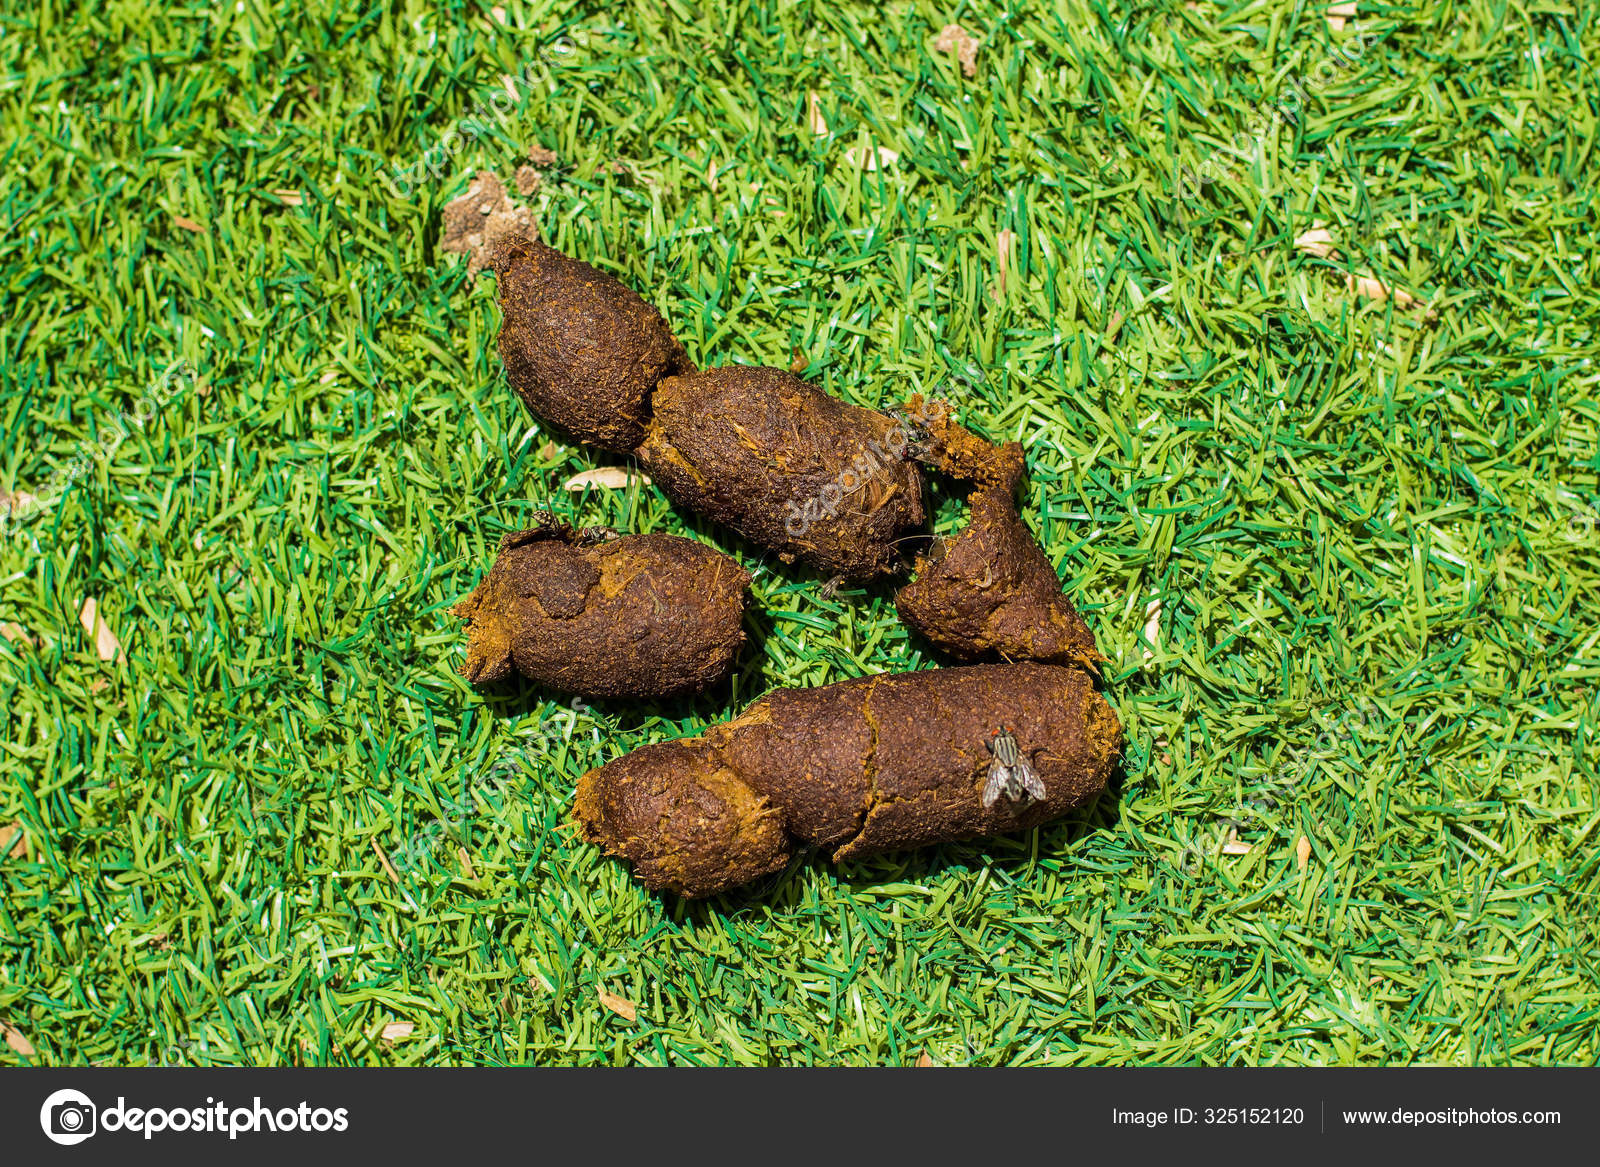Dog: (457, 227, 1128, 860)
